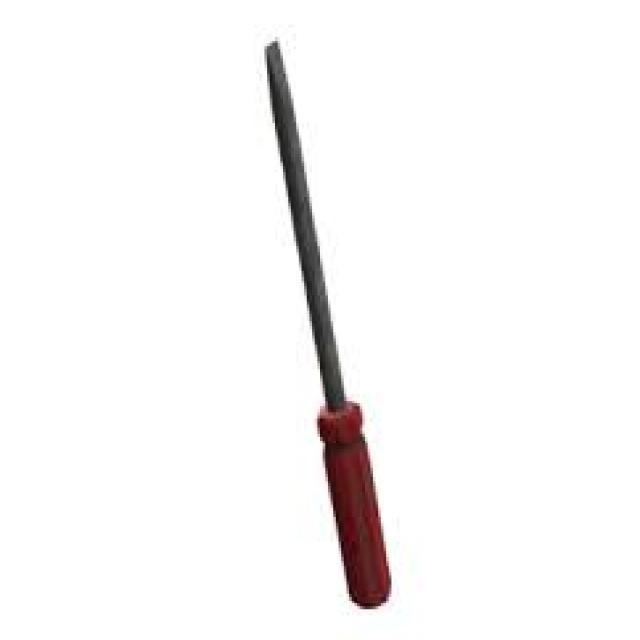screwdriver: (226, 16, 441, 618)
